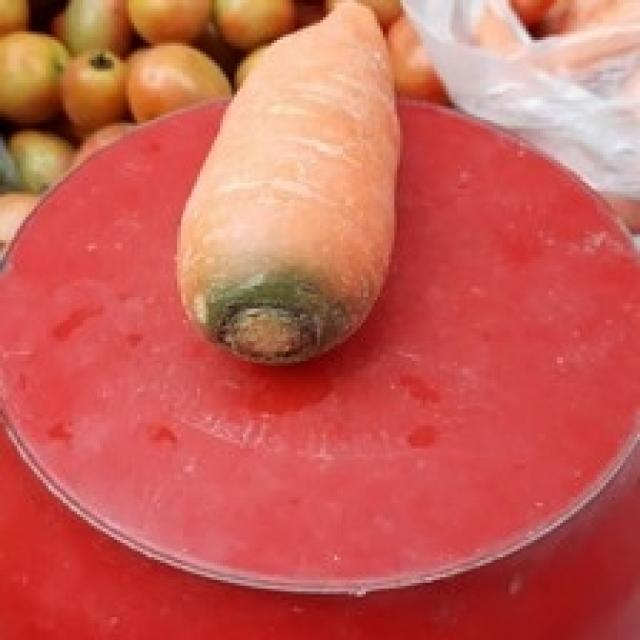carrot: (174, 0, 394, 357)
